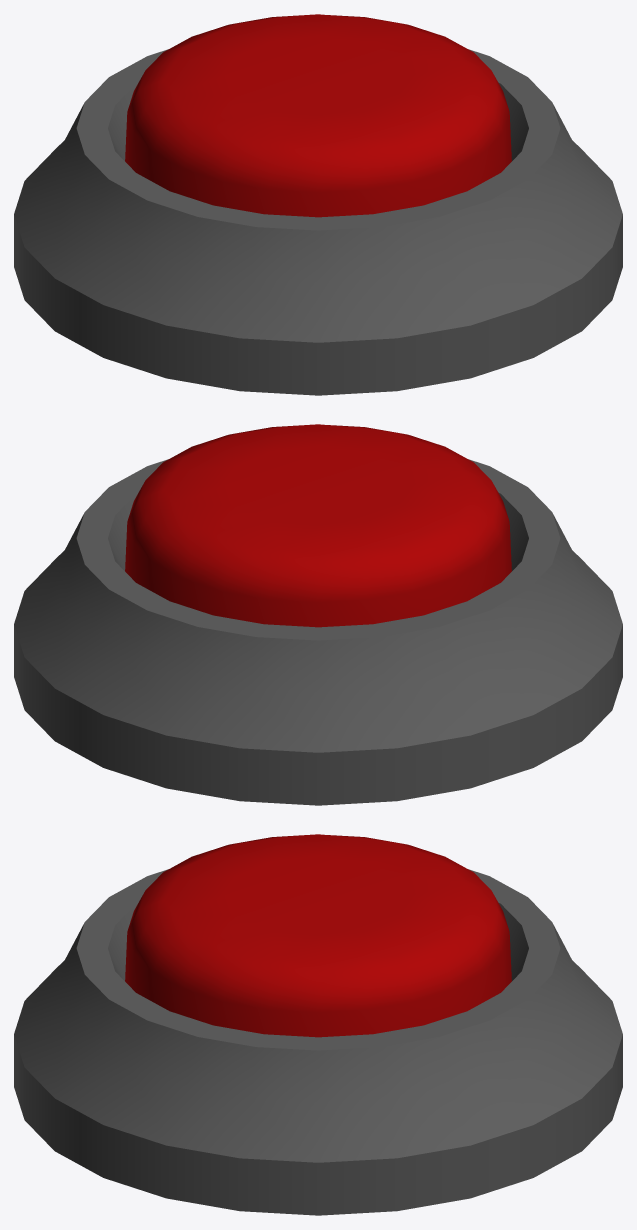
The model's file is Button.fbx.
The picture shows the model from 3 angles, top to bottom: view 1: azimuth 30°, elevation 25°; view 2: azimuth 150°, elevation 25°; view 3: azimuth 270°, elevation 25°; orthographic projection.
Parts seen in each view (by area): view 1: Button_2_Base, Button_1_Top; view 2: Button_2_Base, Button_1_Top; view 3: Button_2_Base, Button_1_Top.
Part boxes in pixels (left/top/right/bottom): Button_2_Base: left=14, top=49, right=622, bottom=395; Button_1_Top: left=125, top=14, right=511, bottom=217; Button_2_Base: left=14, top=459, right=622, bottom=805; Button_1_Top: left=125, top=424, right=511, bottom=627; Button_2_Base: left=14, top=869, right=622, bottom=1215; Button_1_Top: left=125, top=834, right=511, bottom=1037.
Size of the model in its own units: 0.0185 by 0.0185 by 0.00639.
